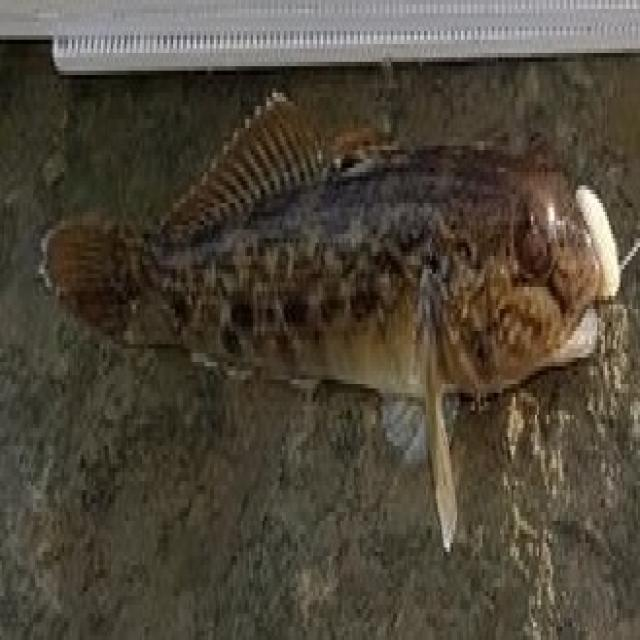Goby: (19, 72, 636, 528)
